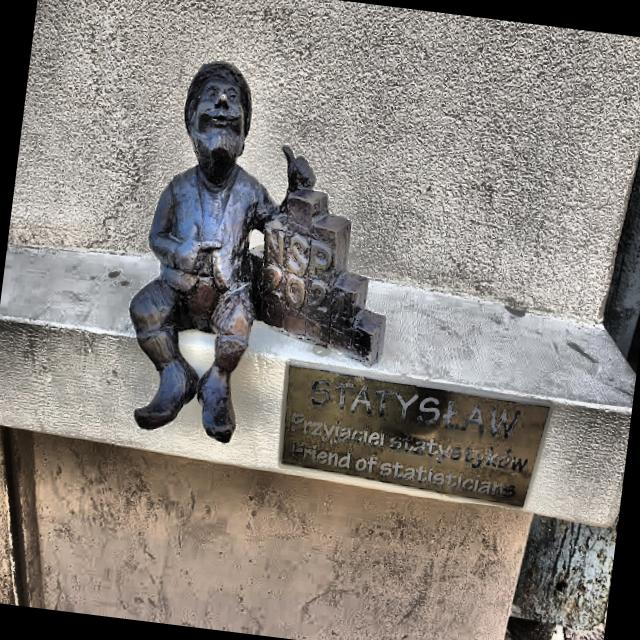Statyslaw: (129, 62, 385, 442)
